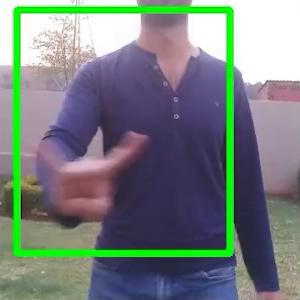takeoff-hand: (29, 116, 150, 223)
